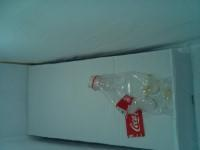bottle: (89, 68, 172, 112)
